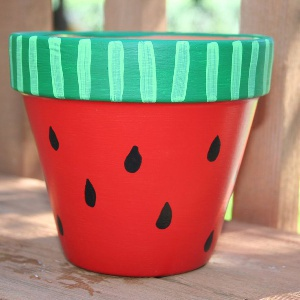flowerpot: (9, 31, 276, 278)
